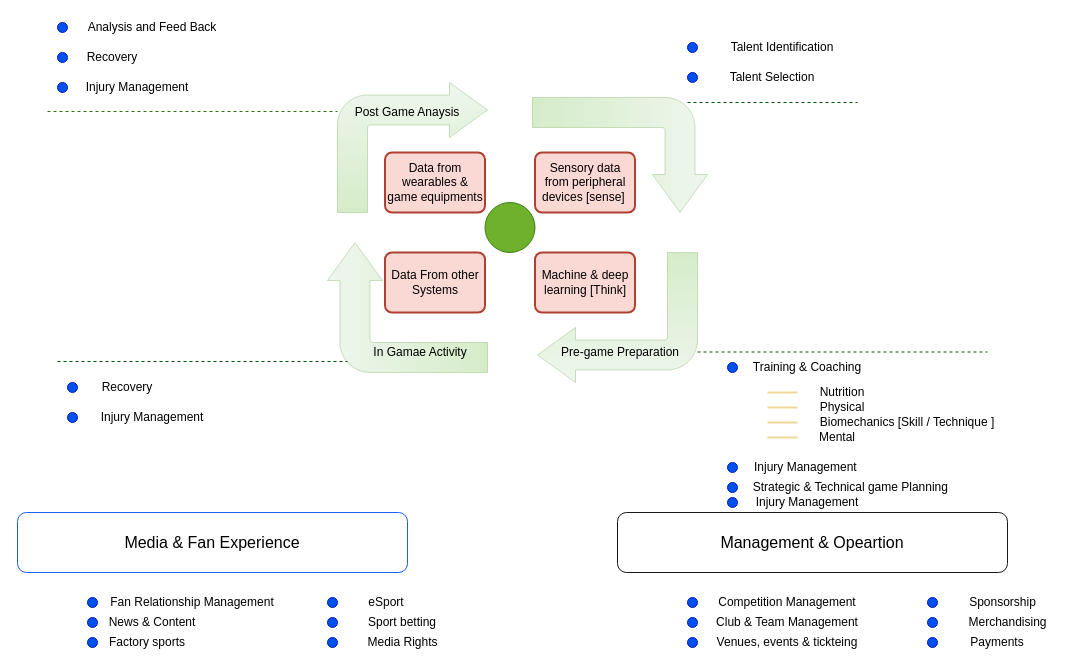
Image size: 1065x669. Some labels were removed from this diagram. The centre of each missing label's shape, as x and y in pixels:
"Act" belongs at (509,227).
"Talent ID & Section" belongs at (620,154).
